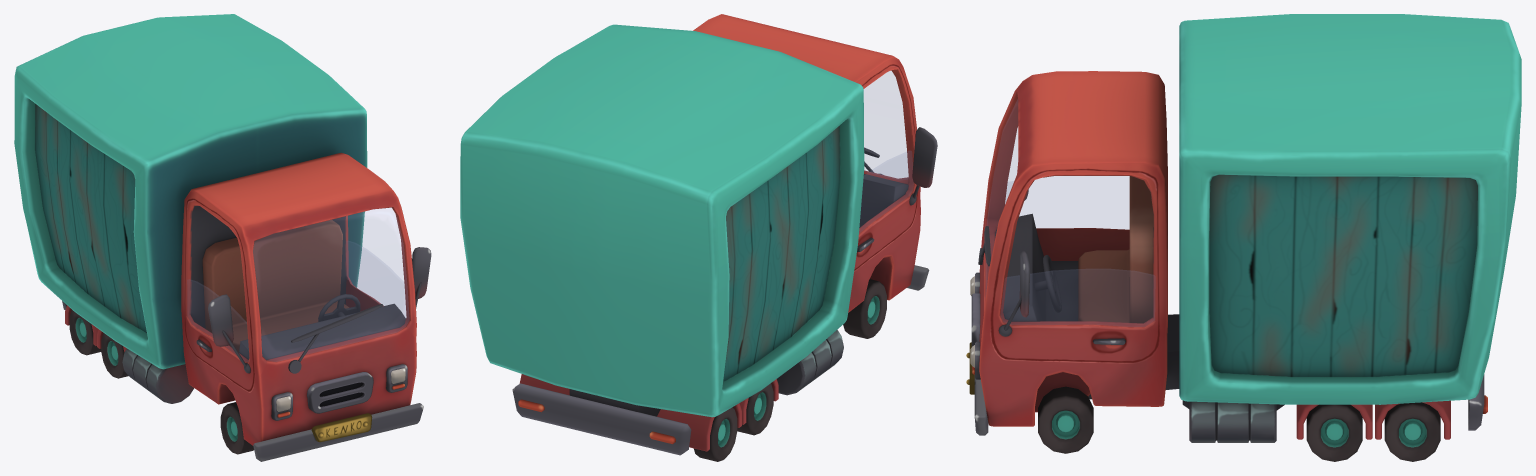
The model's file is std_truck.glb.
3 views of the same model, side by side, from view 1: azimuth 30°, elevation 25°; view 2: azimuth 150°, elevation 25°; view 3: azimuth 270°, elevation 25° (orthographic). The views are drawn at different scales.
Visible parts, largest first — view 1: pCube1, pCube2, pCube12, pCube5, pCylinder5, pCube6, pCube13, pCylinder27, pCube17, pCube24, pCube8, pCylinder26 (+5 smaller); view 2: pCube1, pCube2, pCube3, pCube12, pCube24, pCylinder27, pCylinder26, pCylinder5, pCylinder25, polySurface5, pCube23, pCylinder24 (+1 smaller); view 3: pCube1, pCube2, pCube13, pCube5, pCube24, pCylinder4, pCylinder1, pCylinder5, pCylinder23, pCylinder22, pCube12, pCube4 (+5 smaller).
Boxes of the visible parts, x1,y1,x2,y2 form: pCube1: (14,14,367,369); pCube2: (181,152,416,445); pCube12: (253,208,408,361); pCube5: (202,219,349,352); pCylinder5: (239,303,405,359); pCube6: (253,403,423,461); pCube13: (347,241,405,316); pCylinder27: (122,348,193,403); pCube17: (307,372,373,413); pCube24: (187,280,248,361); pCube8: (311,413,372,442); pCylinder26: (220,402,253,454); pCube1: (460,24,864,417); pCube2: (693,14,920,312); pCube3: (512,383,691,455); pCube12: (864,71,907,179); pCube24: (859,151,913,232); pCylinder27: (777,329,843,395); pCylinder26: (843,279,886,338); pCylinder5: (859,174,908,227); pCylinder25: (693,407,737,461); polySurface5: (657,403,741,451); pCube23: (912,127,937,187); pCylinder24: (737,383,773,435); pCube1: (1179,14,1521,404); pCube2: (979,71,1167,426); pCube13: (1001,269,1154,326); pCube5: (1078,176,1153,323); pCube24: (1006,176,1128,228); pCylinder4: (1189,401,1276,442); pCylinder1: (1038,386,1093,453); pCylinder5: (995,213,1045,321); pCylinder23: (1384,402,1440,461); pCylinder22: (1306,404,1362,461); pCube12: (986,100,1017,288); pCube4: (1088,314,1284,410).
Bounding box in the file's own units: 0.0466 × 0.0529 × 0.077.
1 material, 1 textured.
